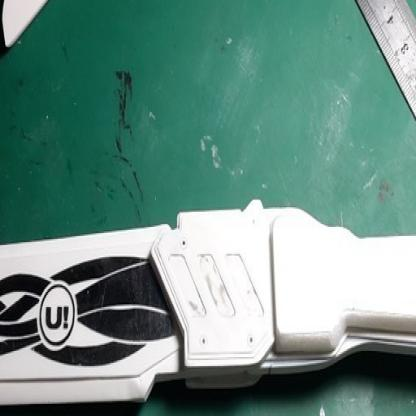knife: (0, 196, 415, 414)
